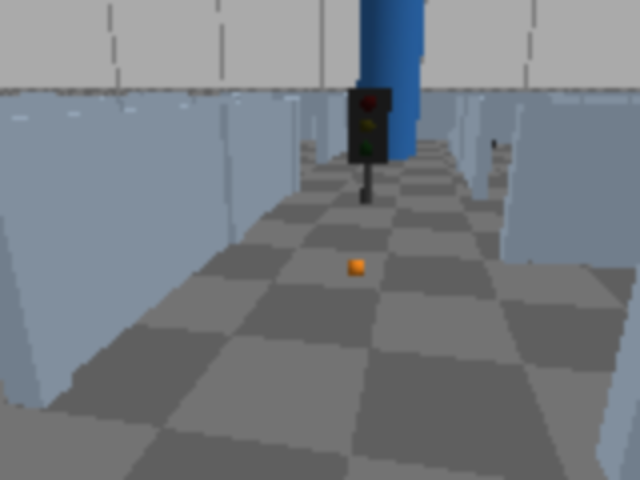puck: (344, 255, 368, 280)
